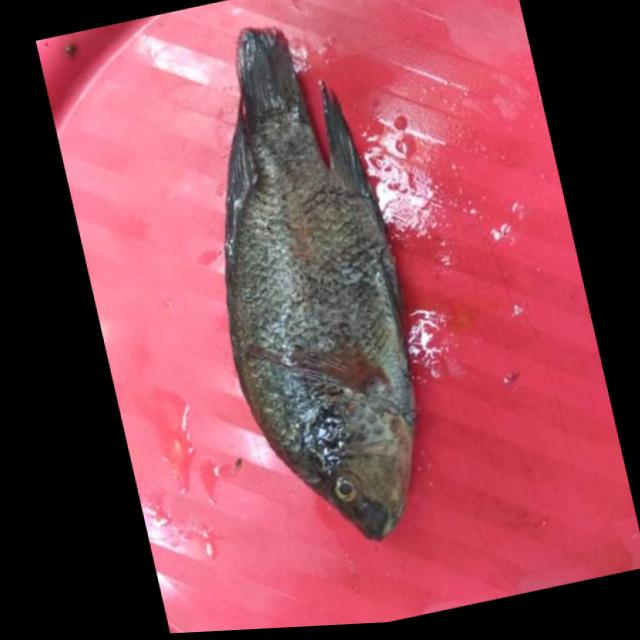Tilapia: (160, 6, 459, 563)
